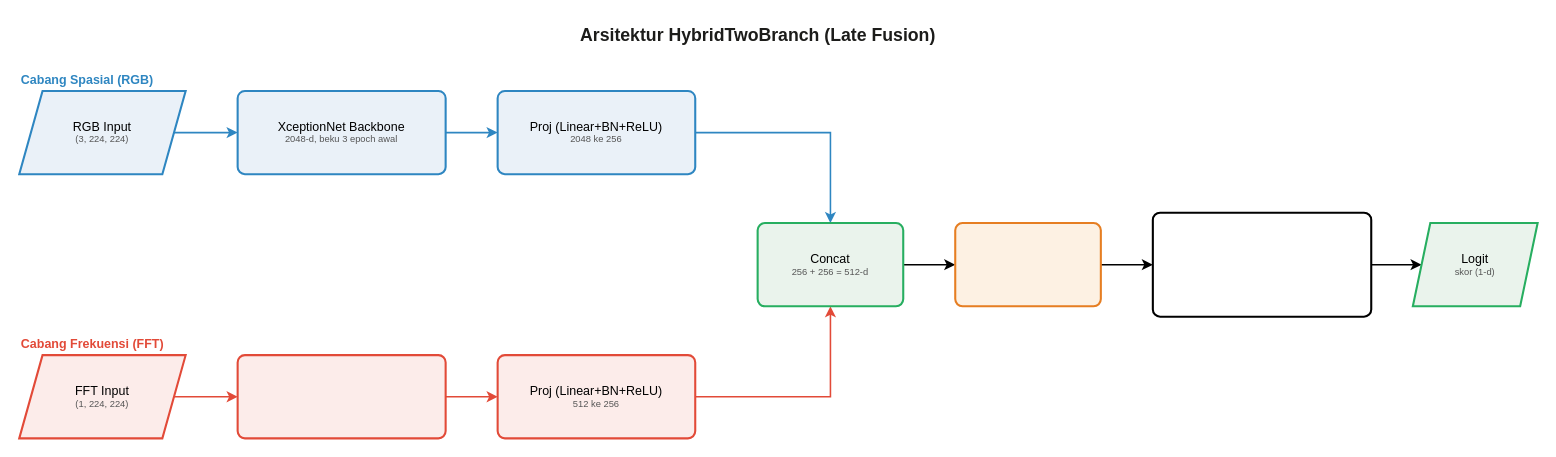
The diagram is 1556 pixels wide and 457 high, and some of its shapes have lost their labels. The shapes that lost their labels are listed below. From the top down, each one's centre as x and y in pixels, then its label:
At [1027,264]: "SE Gate 512 ke 512, reduction 4".
At [1261,264]: "Classifier Drop(0,5), FC 512-128, ReLU, Drop(0,5), FC 128-1".
At [341,396]: "FreqCNN Backbone 512-d, 5 FreqBlock".
